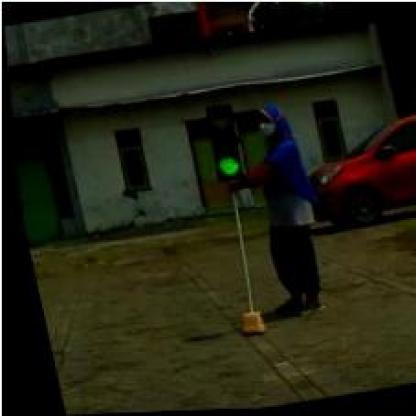green: (200, 104, 240, 182)
